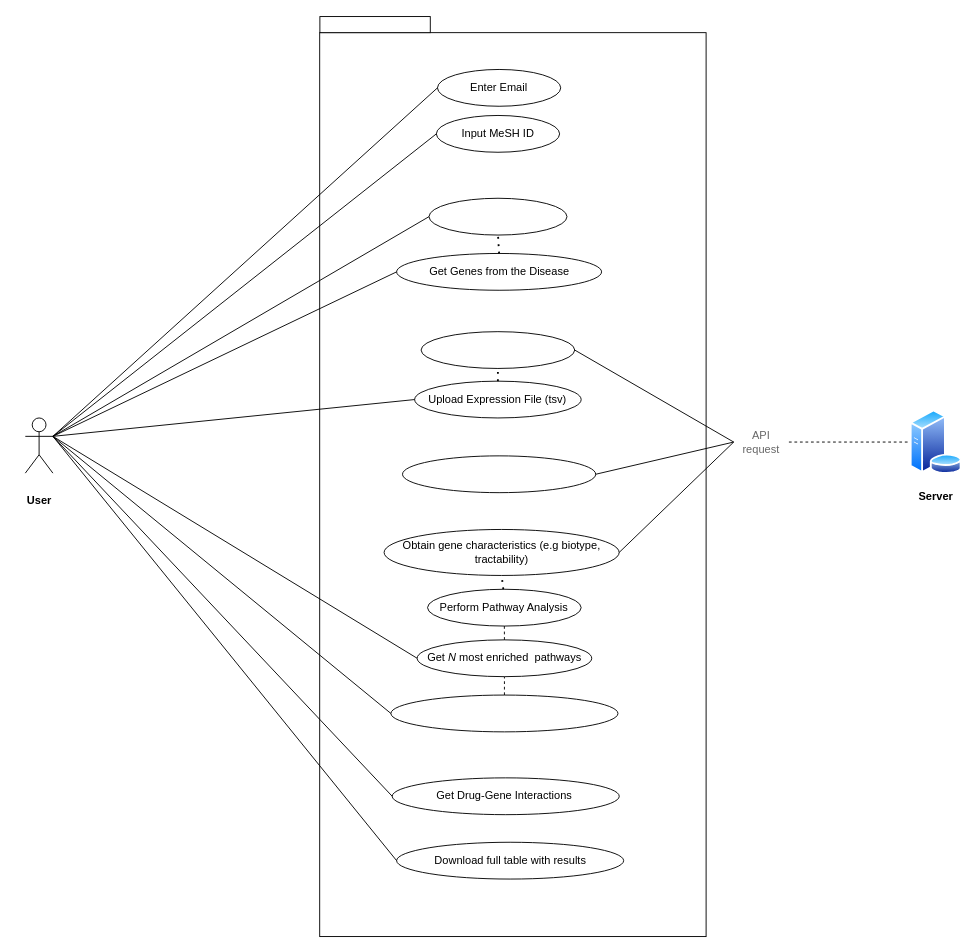
Image size: 979x952. Some labels were removed from this diagram. The shapes that lost their labels are listed below. From the top down, each one's centre as x and y in pixels, then its label:
(x=374, y=24): DGS
(x=497, y=216): Get Disease Name
(x=497, y=349): Get link to Expression File
(x=499, y=474): Map Ensembl ID to Gene Name
(x=504, y=713): Get important genes in selected pathway
